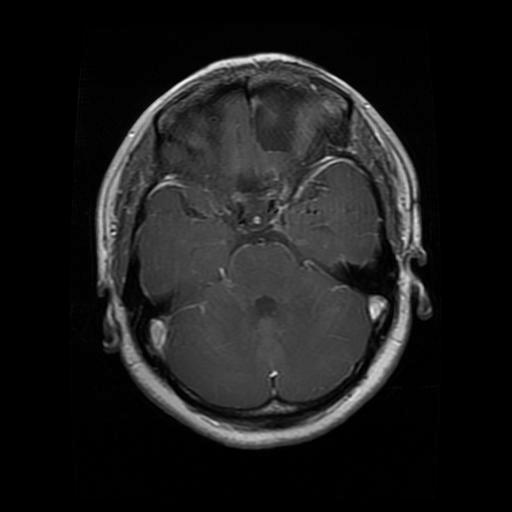Tumour-Glioma: (238, 67, 337, 186)
